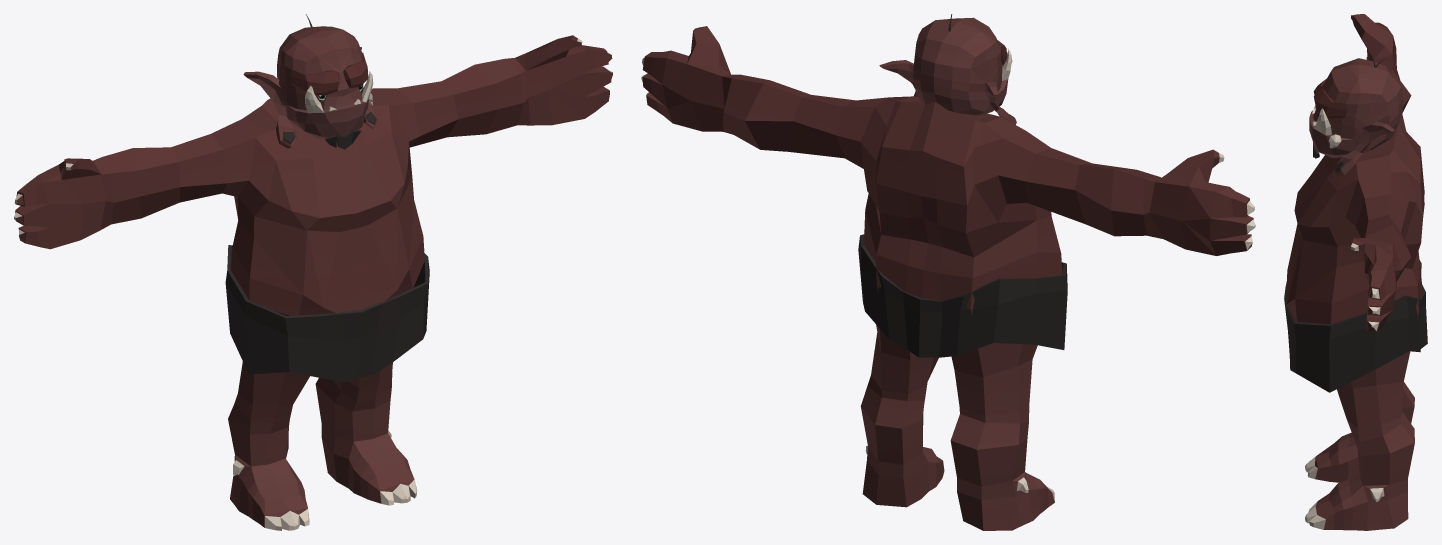
File: ogro COMPLETO.fbx
The picture shows the model from 3 angles, left to right: view 1: azimuth 30°, elevation 25°; view 2: azimuth 150°, elevation 25°; view 3: azimuth 270°, elevation 25°; orthographic projection. The views are drawn at different scales.
Visible parts, largest first — view 1: Cube.034, Cube.033, Cube.035, Cube.026, Cube.032; view 2: Cube.034, Cube.033, Cube.035; view 3: Cube.034, Cube.033, Cube.035, Cube.026, Cube.032, Cube.022, Cube.023, Cube.030.
Part boxes in pixels (box(x1,y1,x2,y2)): Cube.034: box(15, 35, 612, 527); Cube.033: box(225, 245, 429, 381); Cube.035: box(277, 26, 369, 138); Cube.026: box(14, 38, 612, 530); Cube.032: box(290, 52, 368, 95); Cube.034: box(642, 26, 1253, 530); Cube.033: box(858, 234, 1067, 357); Cube.035: box(913, 17, 1008, 115); Cube.034: box(1286, 14, 1424, 530); Cube.033: box(1284, 260, 1427, 392); Cube.035: box(1309, 58, 1403, 158); Cube.026: box(1305, 14, 1384, 529); Cube.032: box(1313, 79, 1346, 118); Cube.022: box(1359, 78, 1396, 144); Cube.023: box(1335, 142, 1370, 176); Cube.030: box(1314, 105, 1331, 135).
Bounding box in the file's own units: 542 × 414 × 122.
3 materials, 2 textured.
